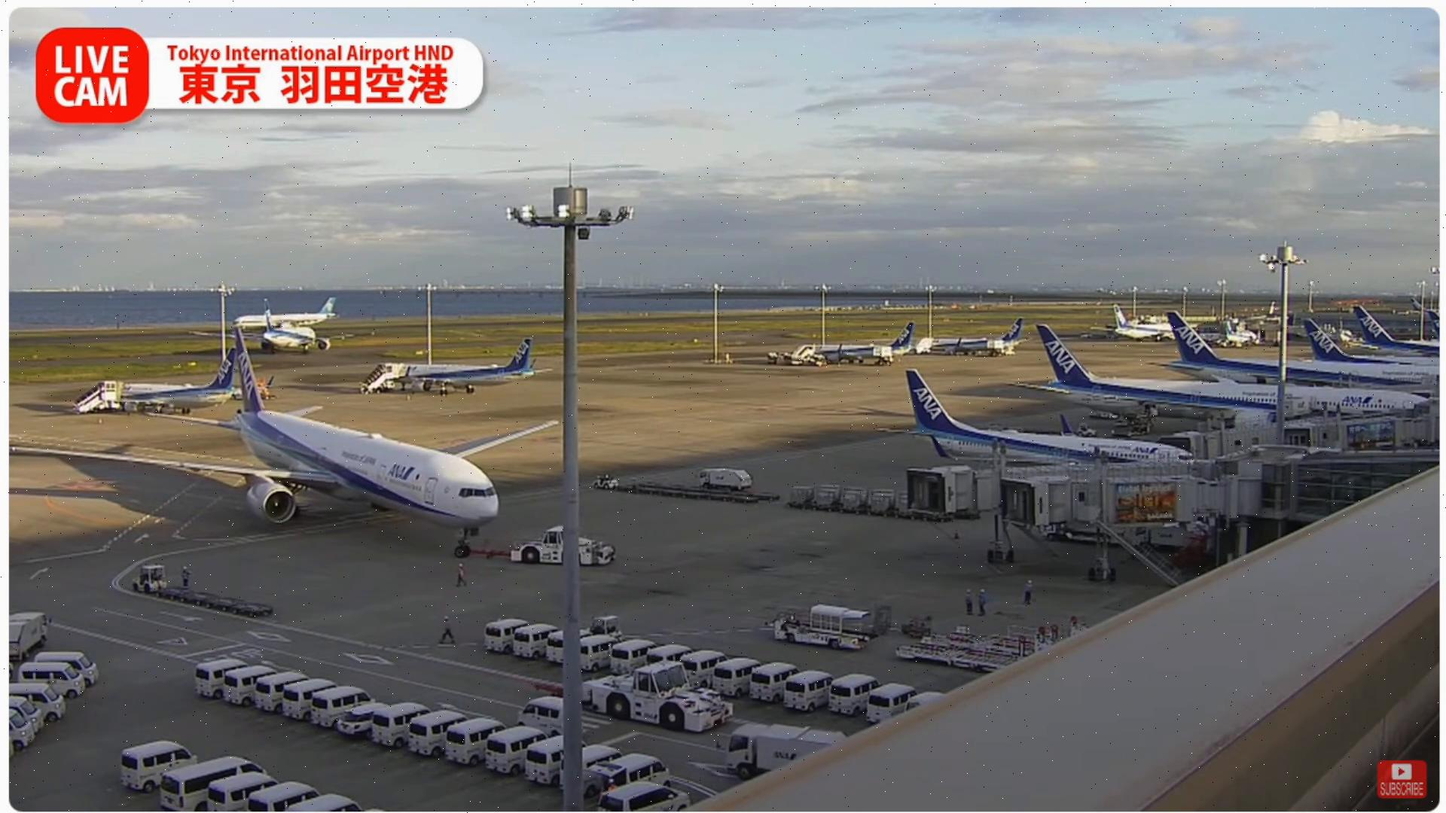APS: (506, 522, 621, 568)
Airplane: (14, 325, 565, 530)
Dolly: (152, 580, 283, 617)
JCPL: (893, 630, 1039, 676)
Skyloader: (774, 600, 879, 655)
Tractor: (134, 564, 168, 598)
